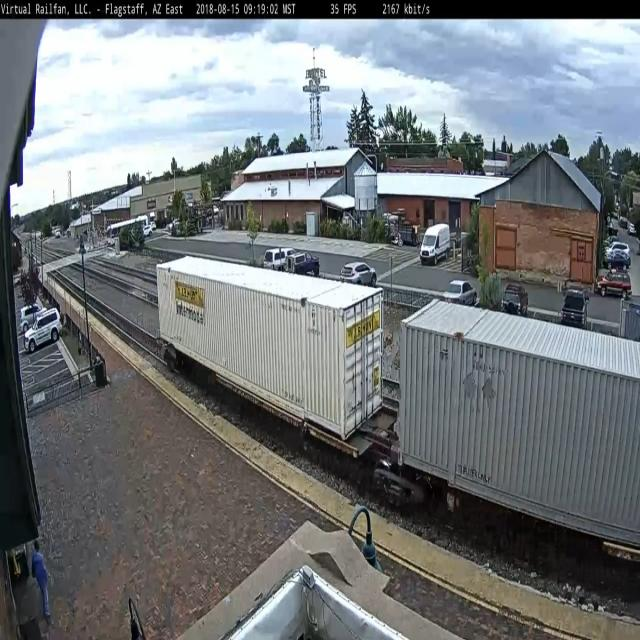container: (393, 285, 640, 562), (151, 237, 388, 448)
